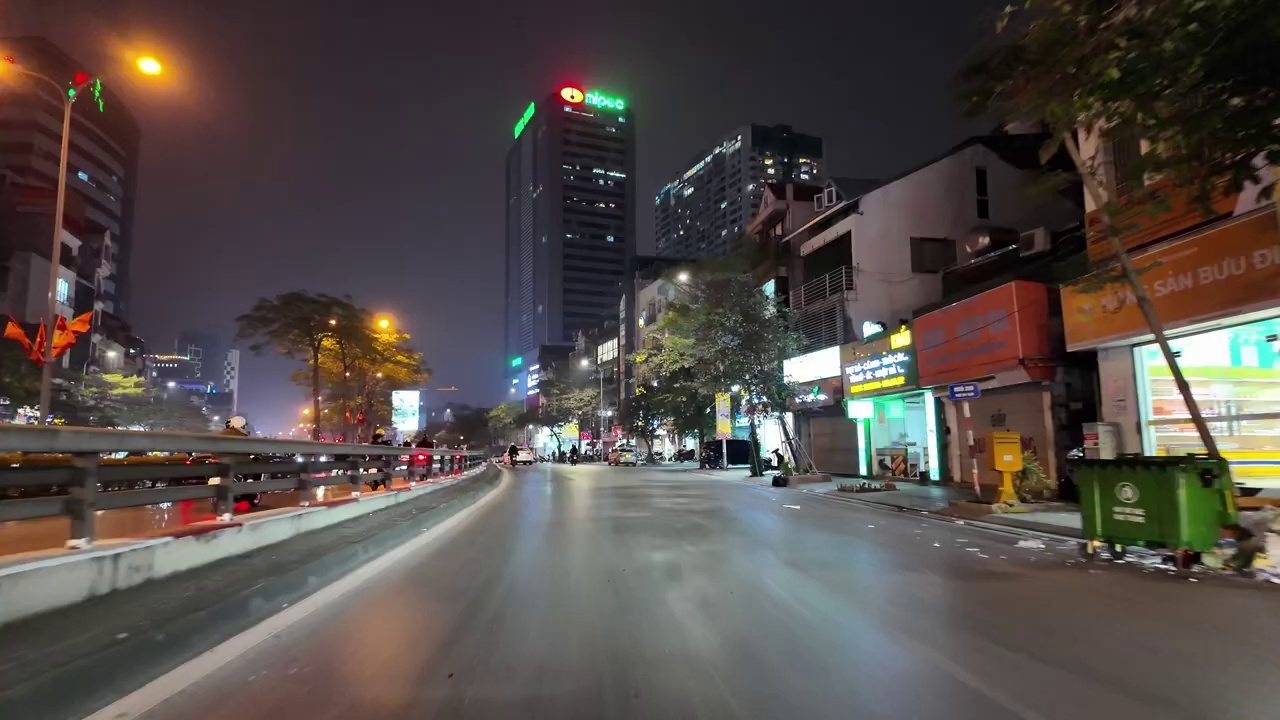acesa: (126, 46, 174, 88), (369, 312, 400, 342), (0, 48, 15, 85)
